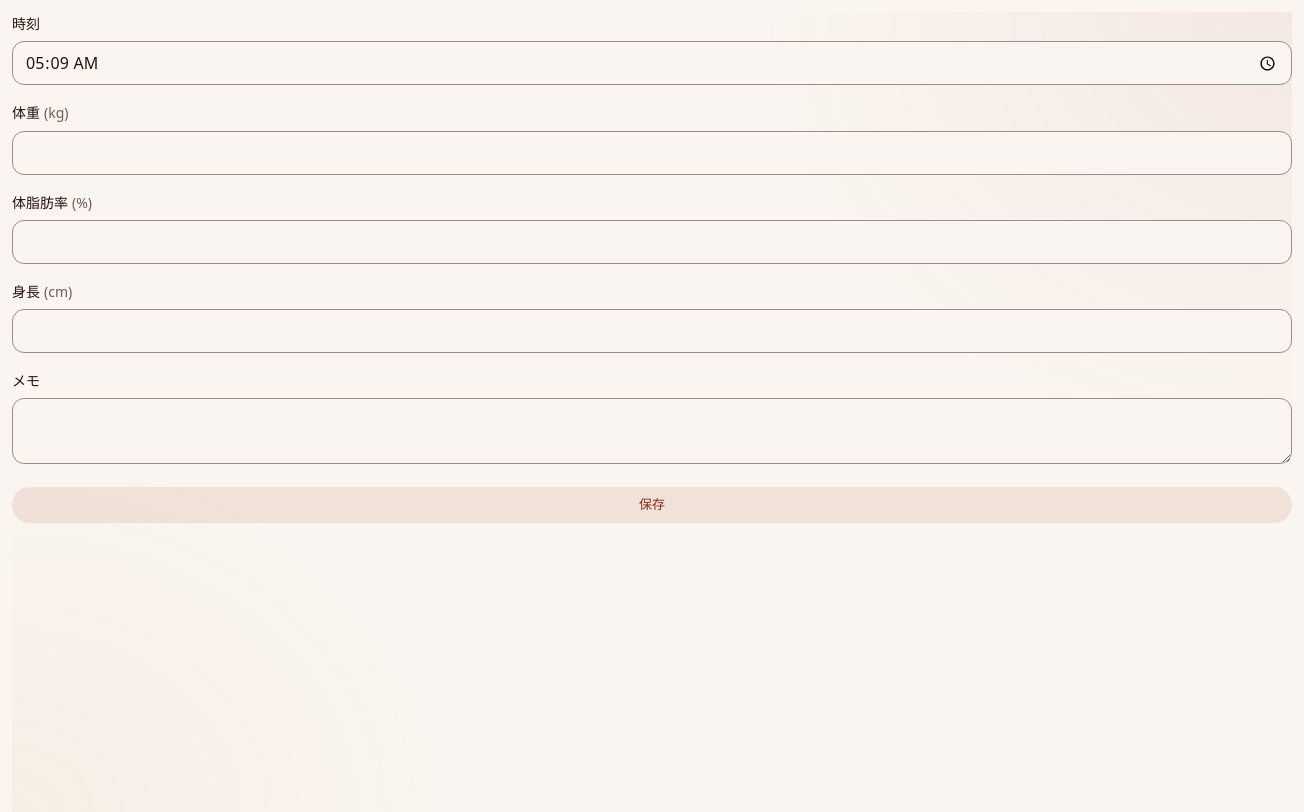
Test: body BMI › shows BMI from the weight and height typed in the form
Type "60" into the number field labelled "体重(kg)" at (652, 152), box [12,130,1292,174]
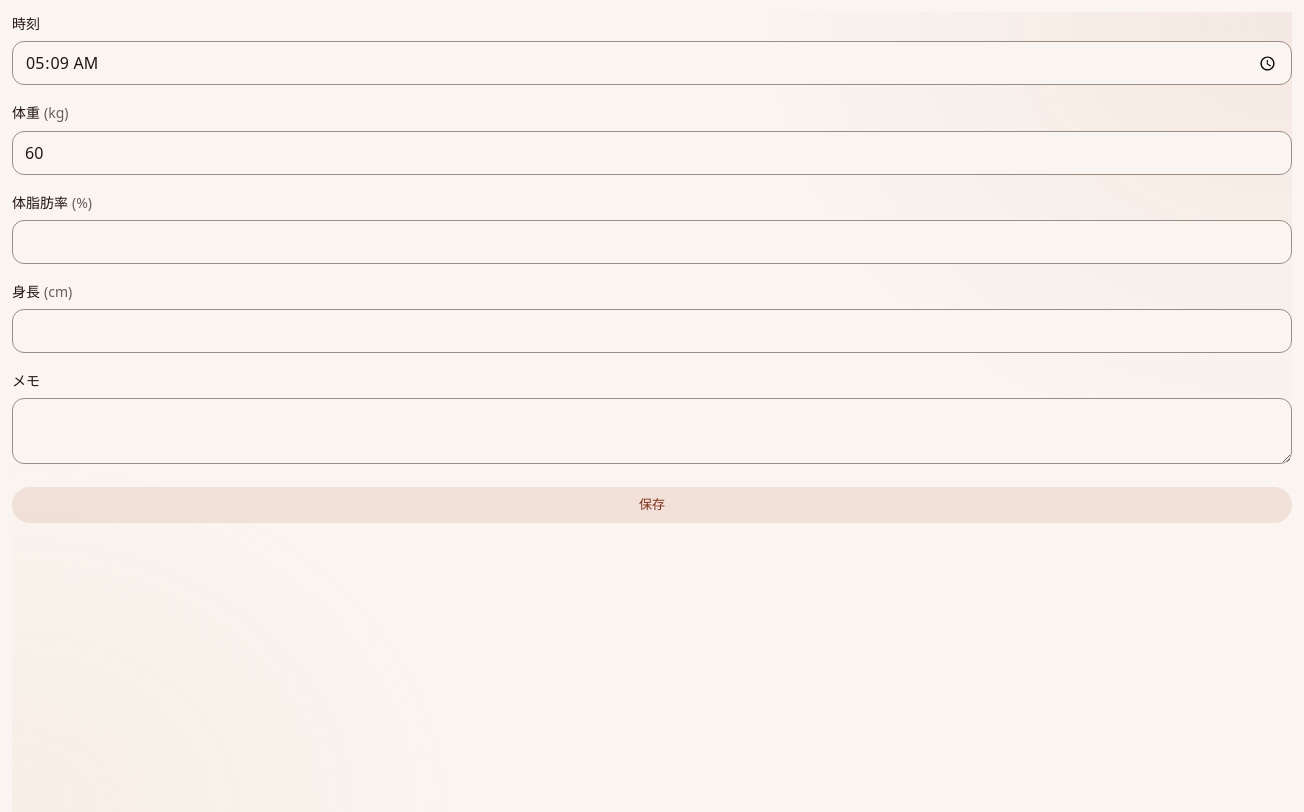
Type "170" into the number field labelled "身長(cm)" at (652, 331), box [12,309,1292,353]
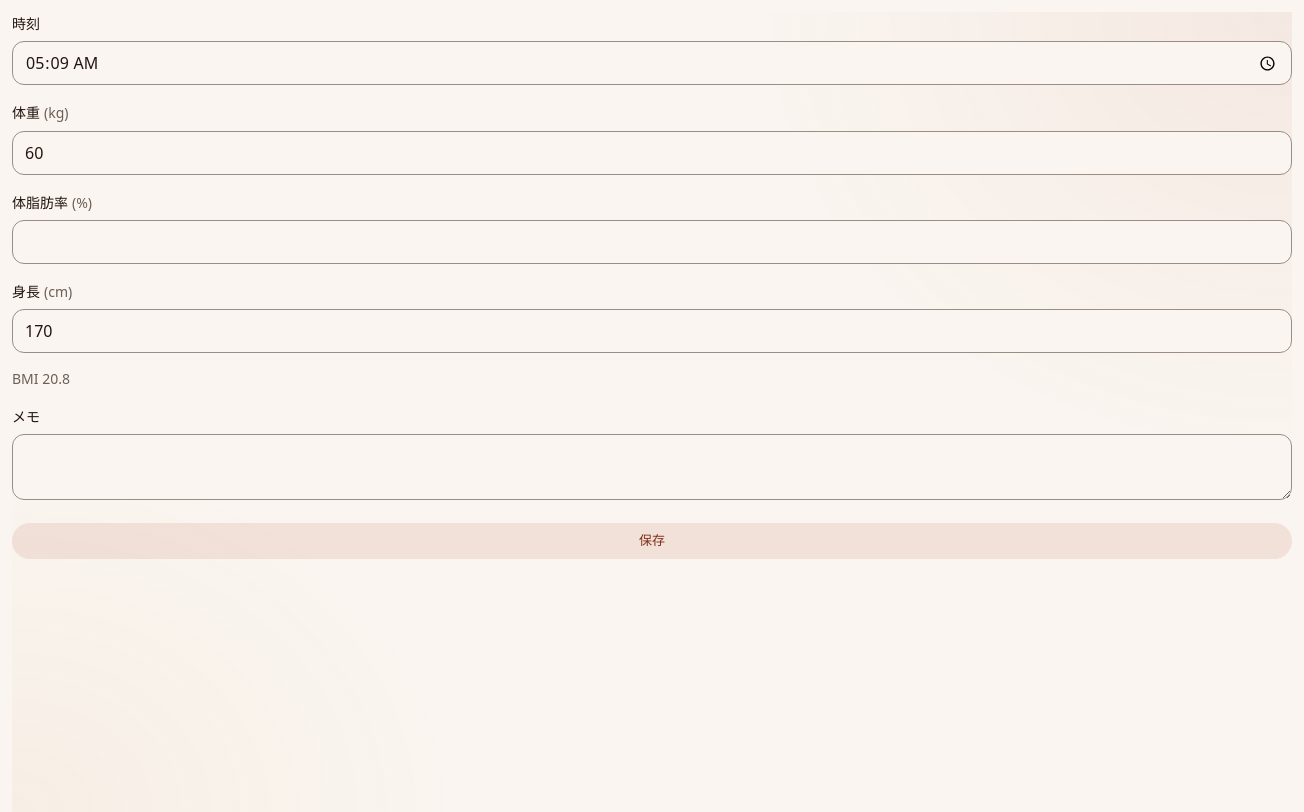
Check: the text "BMI 20.8" is shown, box [12,369,70,388]
